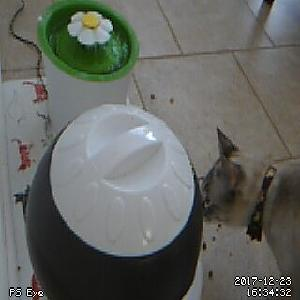cat: (198, 124, 300, 300)
fountain: (37, 1, 140, 83)
